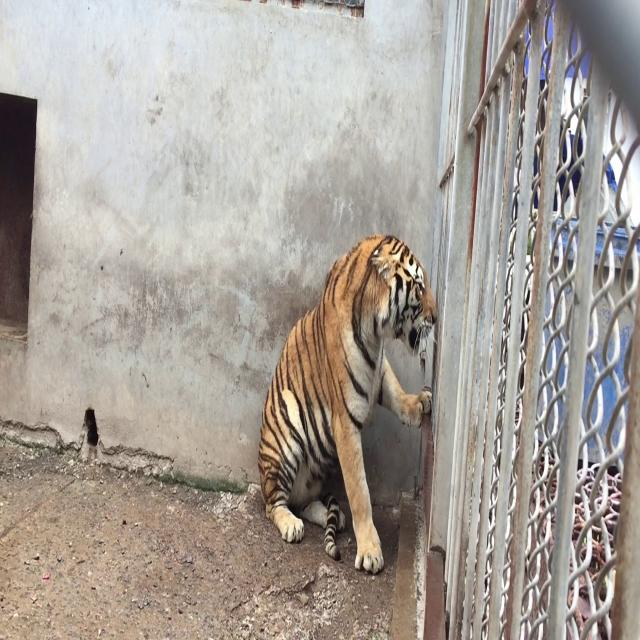Tiger: (232, 152, 463, 619)
